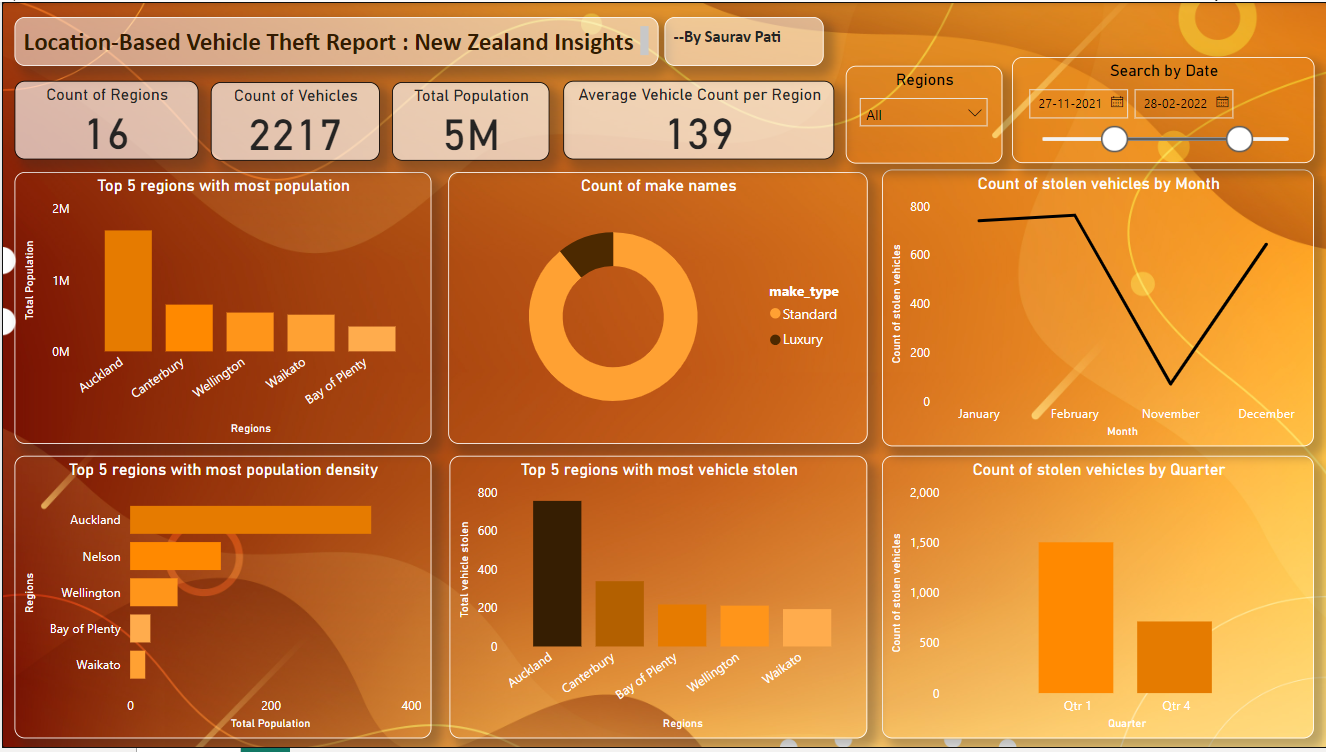

What the dashboard file says about the page in this screenshot:
{"tool":"powerbi","page":{"name":"Page 1","canvas":[1280,720],"ordinal":0},"visuals":[{"type":"columnChart","title":"Top 5 regions with most population","fields":{"Y":["Sum(locations.population)"],"Category":["locations.region"]},"box":[12.3,164.7,402.1,262.1],"z":0},{"type":"card","title":"Count of Regions","fields":{"Values":["CountNonNull(locations.region)"]},"box":[12.1,76,177.3,76],"z":1000},{"type":"card","title":"Count of Vehicles","fields":{"Values":["CountNonNull(stolen_vehicles.vehicle_id)"]},"box":[201.5,77.2,162.9,76],"z":2000},{"type":"card","title":"Average Vehicle Count per Region","fields":{"Values":["stolen_vehicles.vehicle_count_per_region"]},"box":[541.7,76,261.8,76],"z":3000},{"type":"card","title":"Total Population","fields":{"Values":["Sum(locations.population)"]},"box":[376.4,77.2,152,76],"z":4000},{"type":"barChart","title":"Top 5 regions with most population density","fields":{"Category":["locations.region"],"Y":["Sum(locations.density)"]},"box":[12.3,437.7,402.1,273.1],"z":5000},{"type":"donutChart","title":"Count of make names","fields":{"Category":["make_details.make_type"],"Y":["CountNonNull(make_details.make_name)"]},"box":[430.9,164.7,404.8,262.1],"z":6000},{"type":"lineChart","title":"Count of vehicle stolen by Month","fields":{"Category":["stolen_vehicles.date_stolen.Variation.Date Hierarchy.Month"],"Y":["CountNonNull(stolen_vehicles.vehicle_id)"]},"box":[849.4,161.9,417.2,267.6],"z":7000},{"type":"columnChart","title":"Count of vehicle stolen by Quarter","fields":{"Category":["stolen_vehicles.date_stolen.Variation.Date Hierarchy.Quarter"],"Y":["CountNonNull(stolen_vehicles.vehicle_id)"]},"box":[849.4,437.7,417.2,273.1],"z":8000},{"type":"columnChart","title":"Top 5 regions with most vehicle stolen","fields":{"Category":["locations.region"],"Y":["Count(stolen_vehicles.vehicle_id)"]},"box":[432.2,437.7,403.4,273.1],"z":9000},{"type":"slicer","title":"Regions","fields":{"Values":["locations.region"]},"box":[814.3,61.5,150.8,94.1],"z":9001},{"type":"slicer","title":"Search by Date","fields":{"Values":["stolen_vehicles.date_stolen"]},"box":[974.8,53.1,292,102.5],"z":9002},{"type":"textbox","box":[12.1,14.5,621.3,47.1],"z":9003},{"type":"textbox","box":[639.4,14.5,153.2,47.1],"z":9004}]}

Visuals, with their boxes in screenshot pixels (x1, y1, x2, y2), scaled from the page's 1280x720 canvas onto the 1326x752 screenshot:
"Top 5 regions with most population" columnChart: bbox=[13, 172, 429, 446]
"Count of Regions" card: bbox=[13, 79, 196, 159]
"Count of Vehicles" card: bbox=[209, 81, 377, 160]
"Average Vehicle Count per Region" card: bbox=[561, 79, 832, 159]
"Total Population" card: bbox=[390, 81, 547, 160]
"Top 5 regions with most population density" barChart: bbox=[13, 457, 429, 742]
"Count of make names" donutChart: bbox=[446, 172, 866, 446]
"Count of vehicle stolen by Month" lineChart: bbox=[880, 169, 1312, 449]
"Count of vehicle stolen by Quarter" columnChart: bbox=[880, 457, 1312, 742]
"Top 5 regions with most vehicle stolen" columnChart: bbox=[448, 457, 866, 742]
"Regions" slicer: bbox=[844, 64, 1000, 163]
"Search by Date" slicer: bbox=[1010, 55, 1312, 163]
textbox: bbox=[13, 15, 656, 64]
textbox: bbox=[662, 15, 821, 64]
